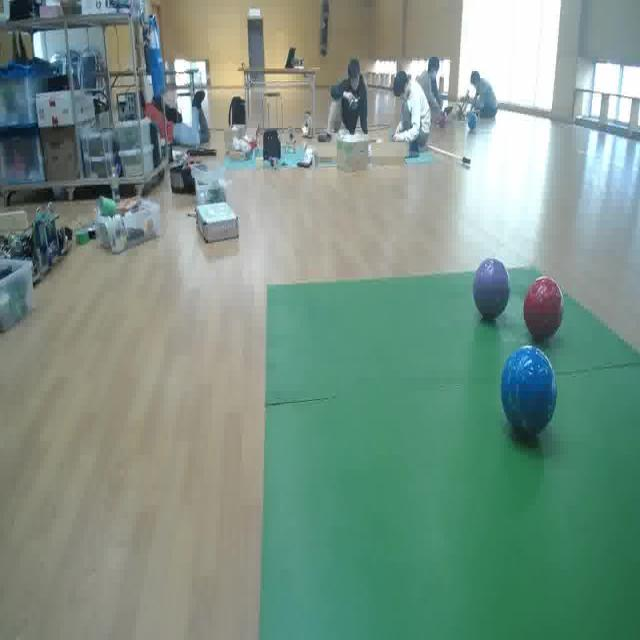blue_ball: (496, 338, 560, 443), (462, 110, 478, 140)
purple_ball: (469, 252, 518, 323), (435, 106, 452, 131)
red_ball: (524, 273, 570, 343)
